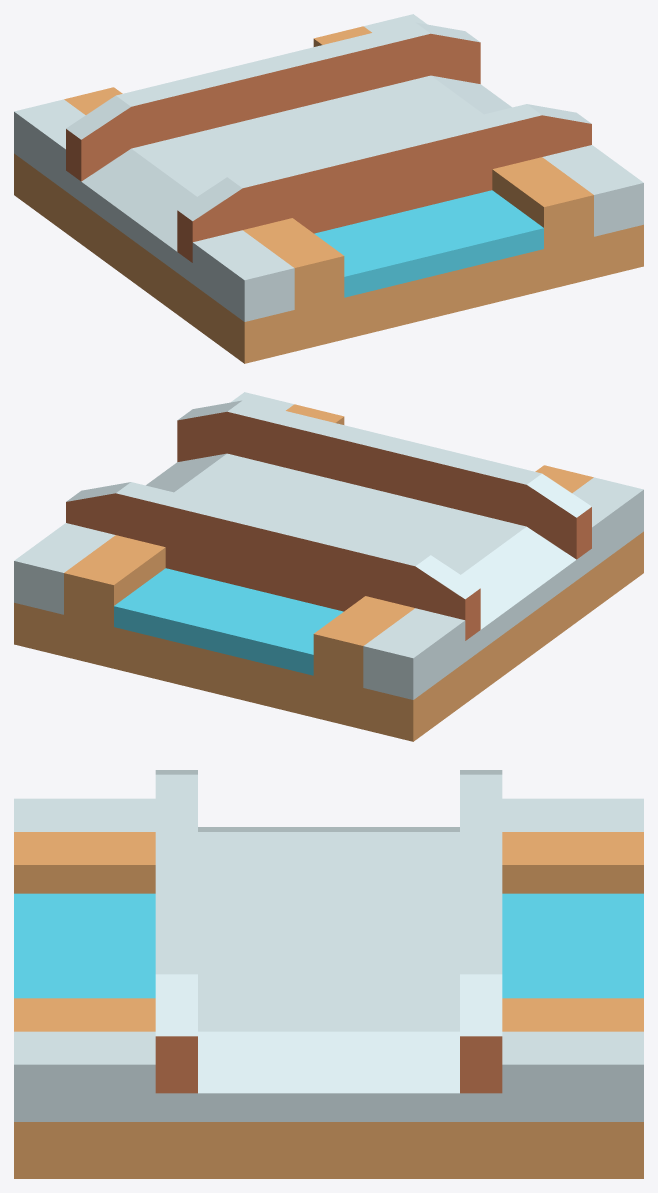
The model's file is snowTileRiverBridge.fbx.
3 views of the same model, one above another, from view 1: azimuth 30°, elevation 25°; view 2: azimuth 150°, elevation 25°; view 3: azimuth 270°, elevation 25° (orthographic). The views are drawn at different scales.
Visible parts, largest first — view 1: snow_tile_riverBridge; view 2: snow_tile_riverBridge; view 3: snow_tile_riverBridge.
Boxes of the visible parts, bbox=[...] form: snow_tile_riverBridge: bbox=[14, 14, 643, 363]; snow_tile_riverBridge: bbox=[14, 392, 643, 741]; snow_tile_riverBridge: bbox=[14, 770, 643, 1178].
Bounding box in the file's own units: 39.37 × 11.81 × 39.37.
